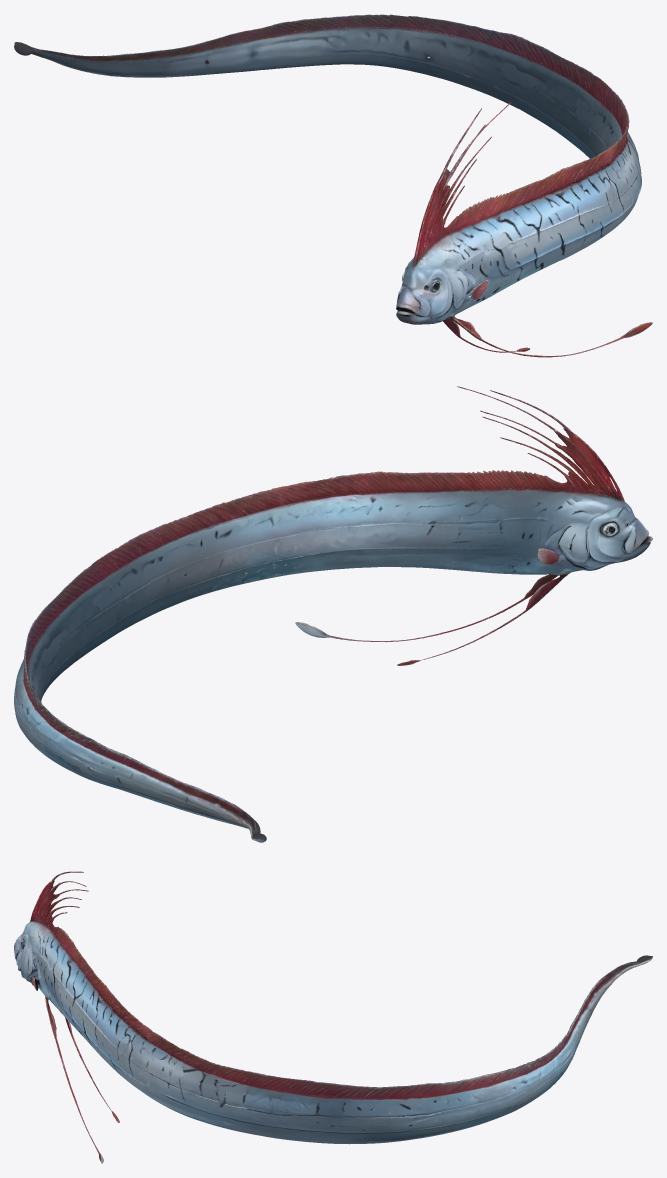
Rendered from giant-oarfish.glb.
3 views of the same model, one above another, from view 1: azimuth 30°, elevation 25°; view 2: azimuth 150°, elevation 25°; view 3: azimuth 270°, elevation 25° (orthographic). The views are drawn at different scales.
Parts seen in each view (by area): view 1: OE_mesh_giant-oarfish_body_rodin-web-draft; view 2: OE_mesh_giant-oarfish_body_rodin-web-draft; view 3: OE_mesh_giant-oarfish_body_rodin-web-draft.
Part boxes in pixels (x1,y1,x2,y2): OE_mesh_giant-oarfish_body_rodin-web-draft: [14, 14, 652, 357]; OE_mesh_giant-oarfish_body_rodin-web-draft: [14, 386, 652, 842]; OE_mesh_giant-oarfish_body_rodin-web-draft: [14, 871, 652, 1163].
Size of the model in its own units: 1.09 by 0.7394 by 1.91.
Materials: 1 (1 with a texture image).
